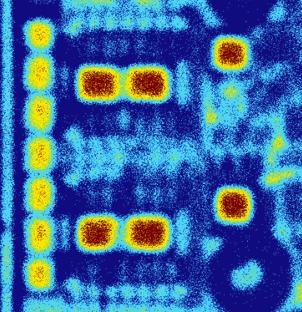Pad 1: (126, 216, 169, 250), (78, 216, 120, 250), (127, 68, 169, 101), (79, 68, 120, 101), (216, 189, 251, 222), (215, 39, 248, 70)
Pad 2: (28, 56, 51, 89), (29, 179, 52, 211), (29, 97, 51, 130), (28, 259, 52, 289), (29, 220, 52, 251), (29, 138, 51, 170), (29, 23, 51, 47)
